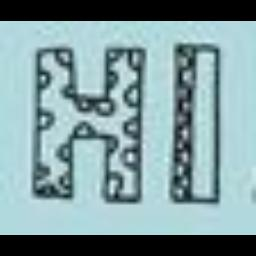h: (24, 34, 158, 204)
i: (158, 47, 236, 205)
